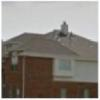chimneys: (60, 21, 69, 38)
